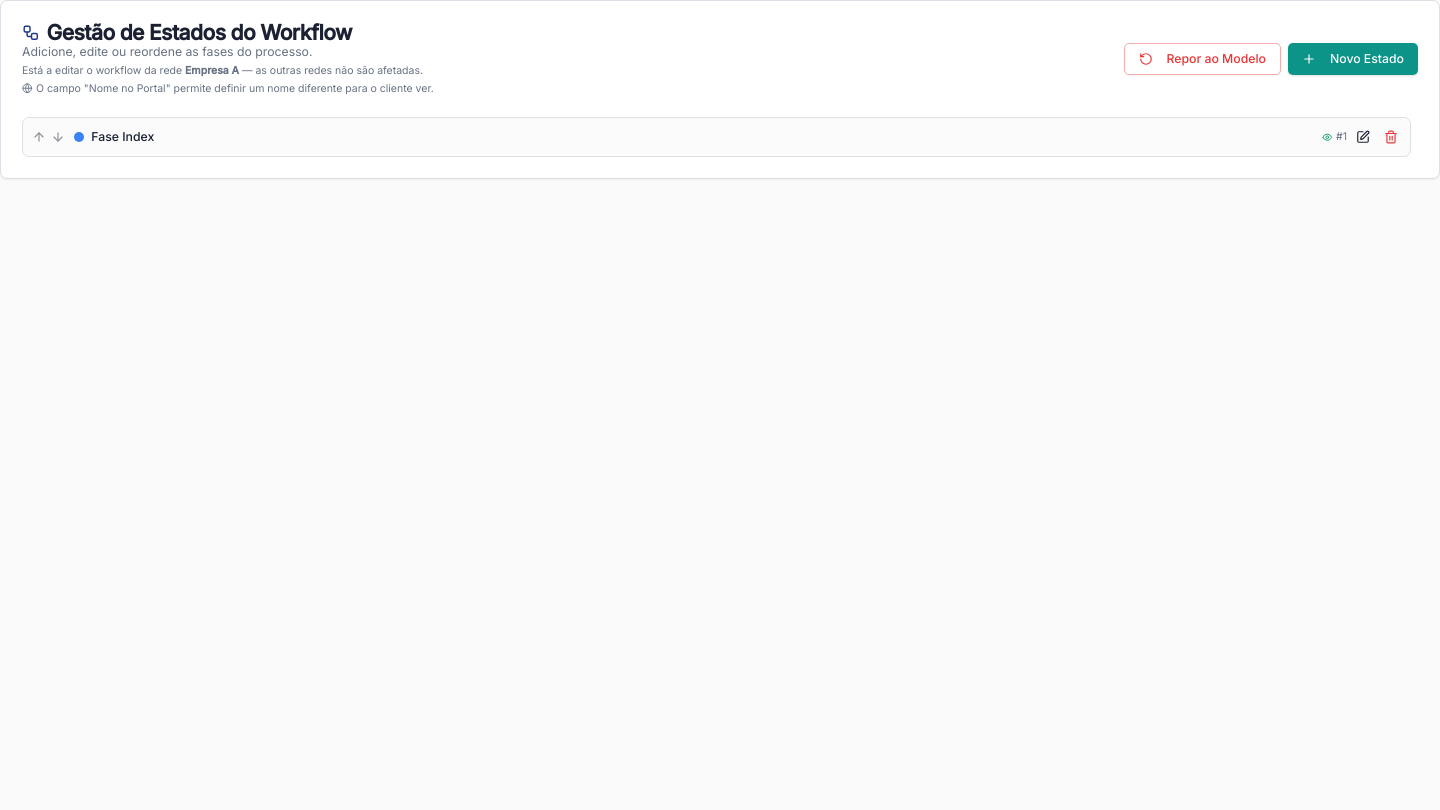
it: WorkflowEditor — Repor ao Modelo › abre o diálogo que pede a password e diz o que se perde
This screenshot has width=1440, height=810.
Click the button with test id "repor-workflow-modelo-btn".
click(1202, 59)  # box top-left (1124, 43), bottom-right (1281, 74)
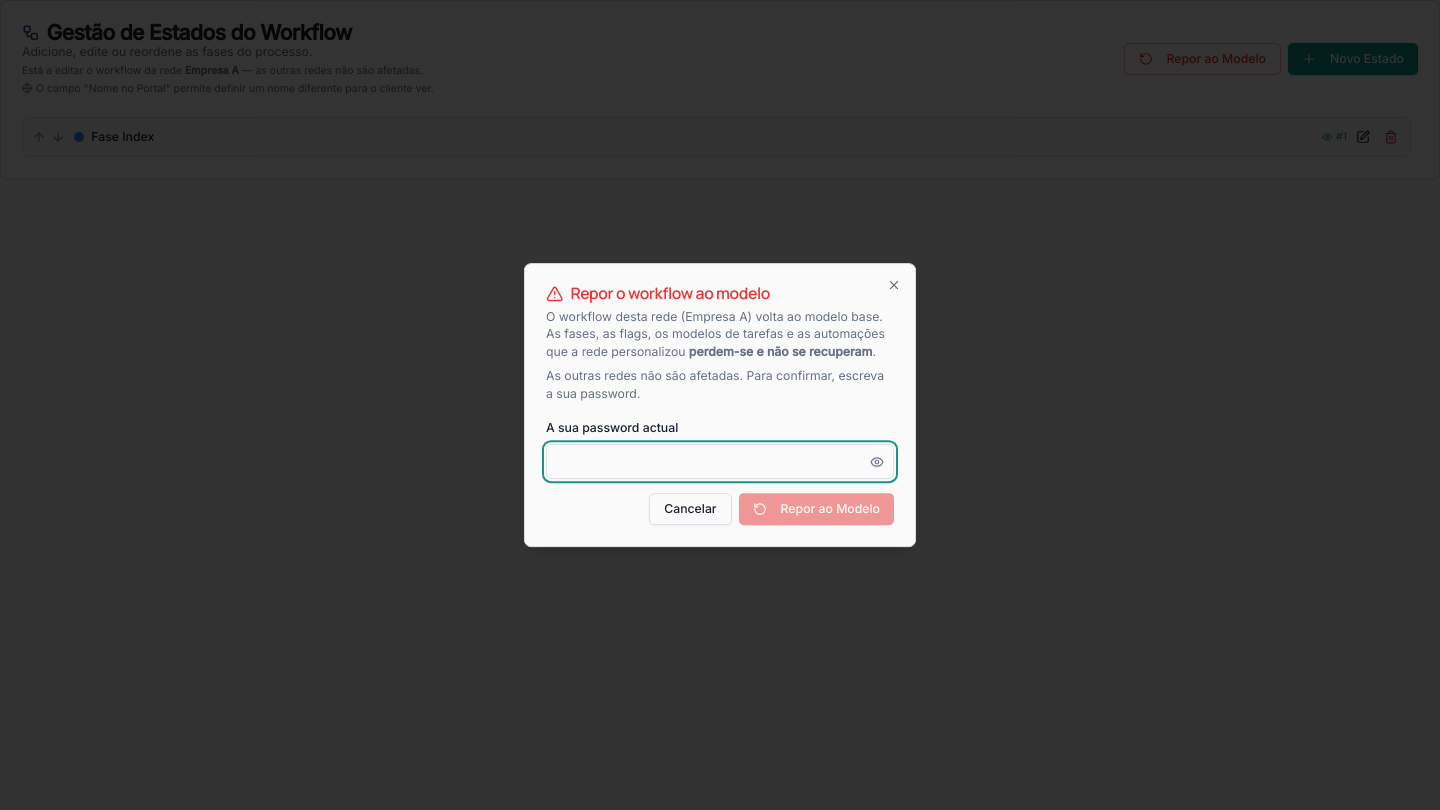
Result: the dialog with test id "repor-modelo-dialog" shows "Empresa A" at top-left (677, 309), bottom-right (752, 324)
Result: the dialog with test id "repor-modelo-dialog" shows "não se recuperam" at top-left (686, 344), bottom-right (872, 359)
Result: the password field labelled "A sua password actual" is shown at top-left (546, 444), bottom-right (894, 479)
